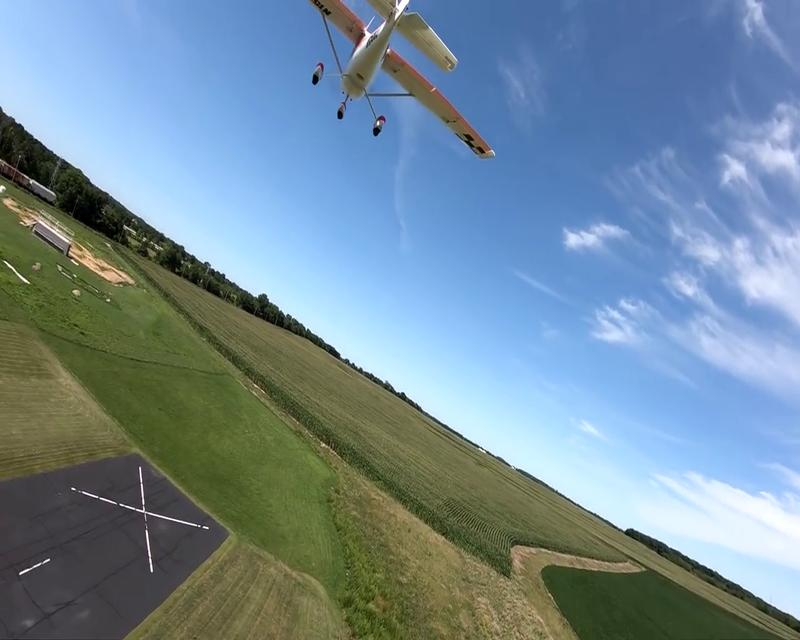UAV: (307, 0, 496, 159)
